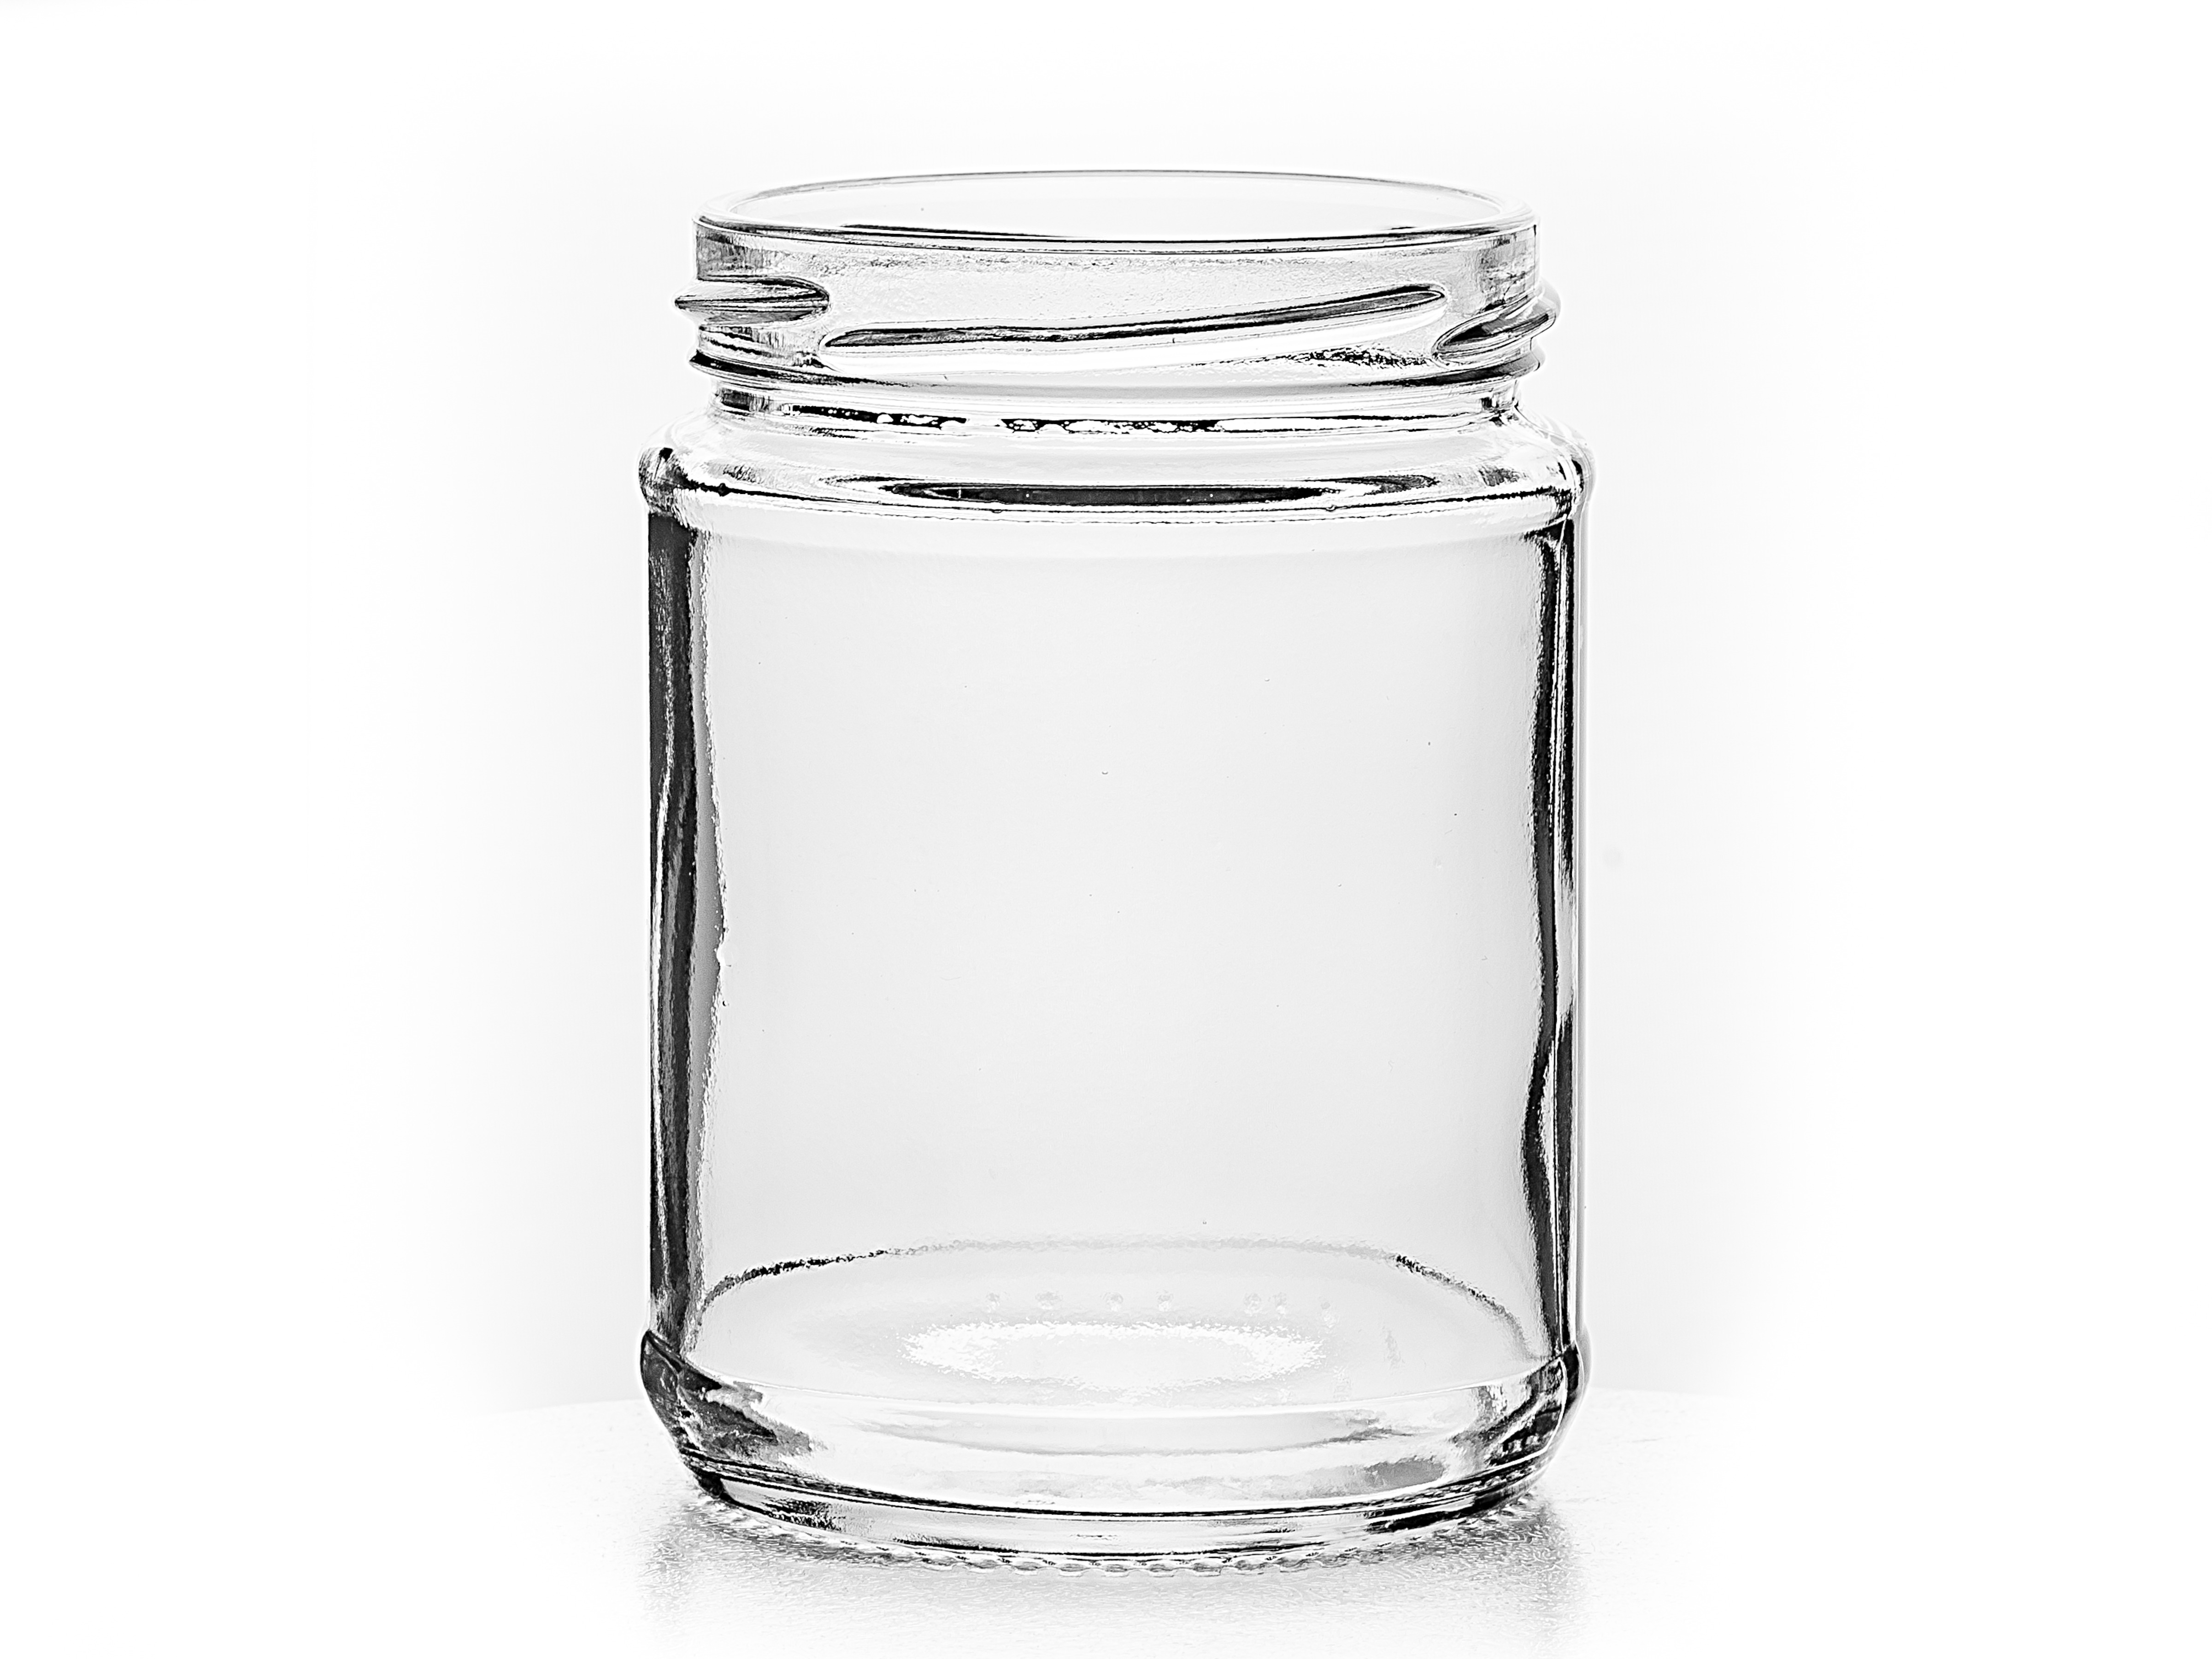container: (593, 141, 1612, 1582)
